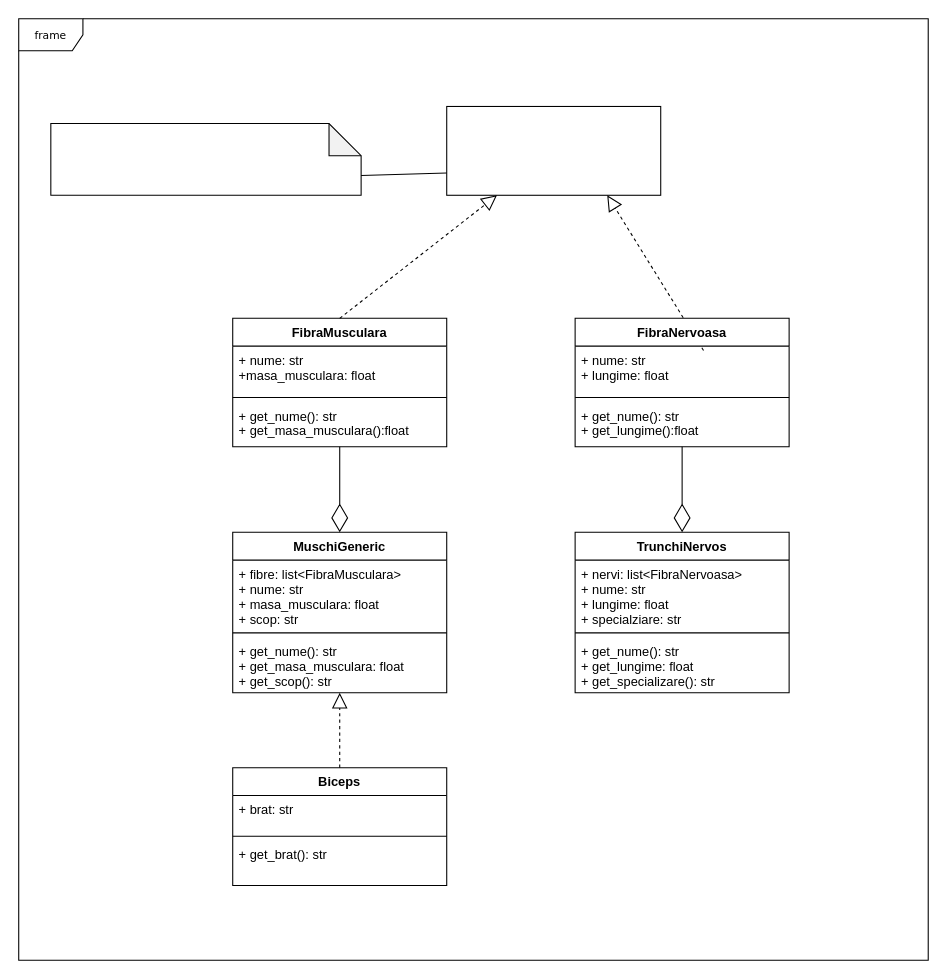
Some shapes in this 947 by 979 pixel diagram are drawn without their labels. Here are the shapes that lost their labels. From the top down, the centre of each, then its label:
the point at 205,159: raise NotImplementedError("message")
the point at 553,150: <<Interface>> Celula + get_nume(): str
